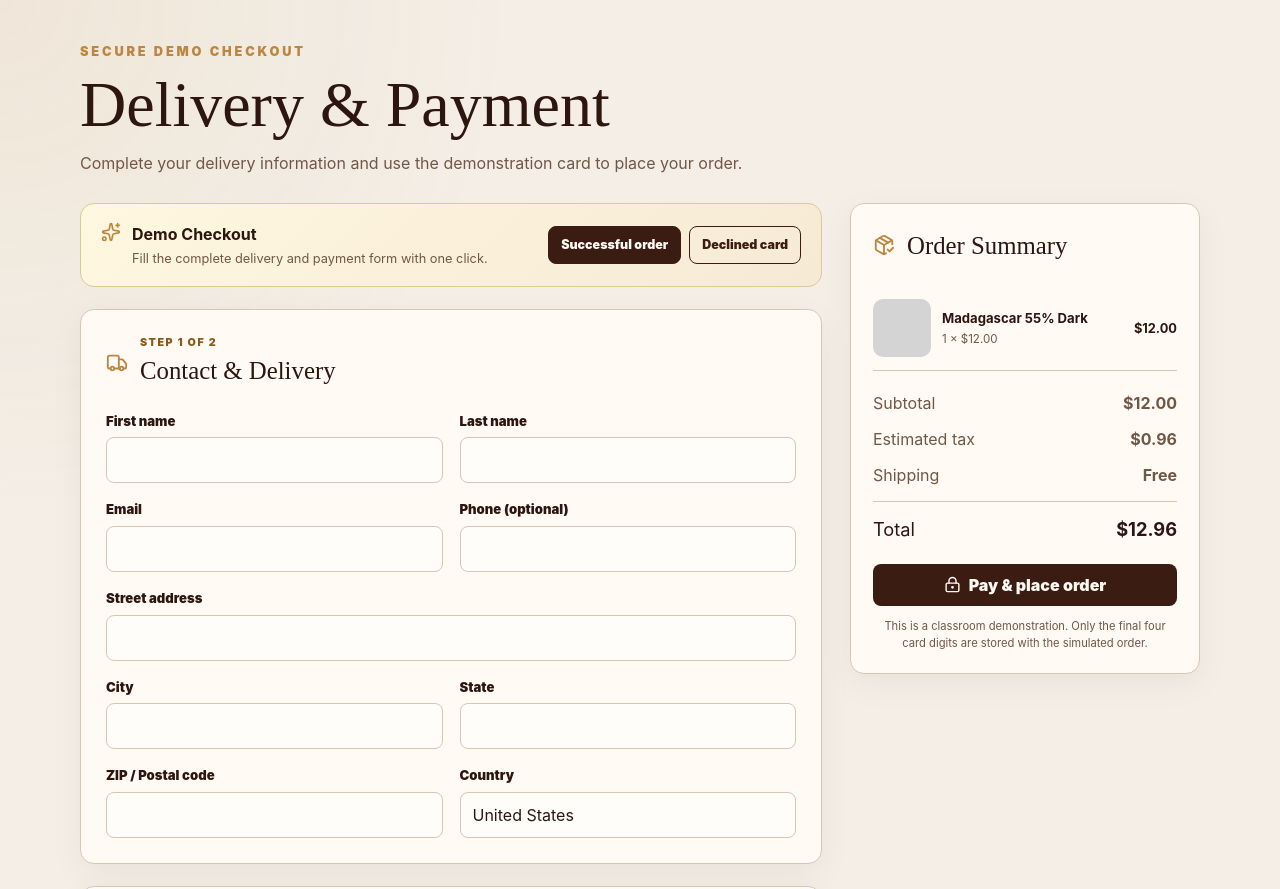
invalid checkout focuses first invalid field and does not clear cart
Click the button "Pay & place order".
click(1025, 585)  # box x1=873 y1=564 x2=1177 y2=606
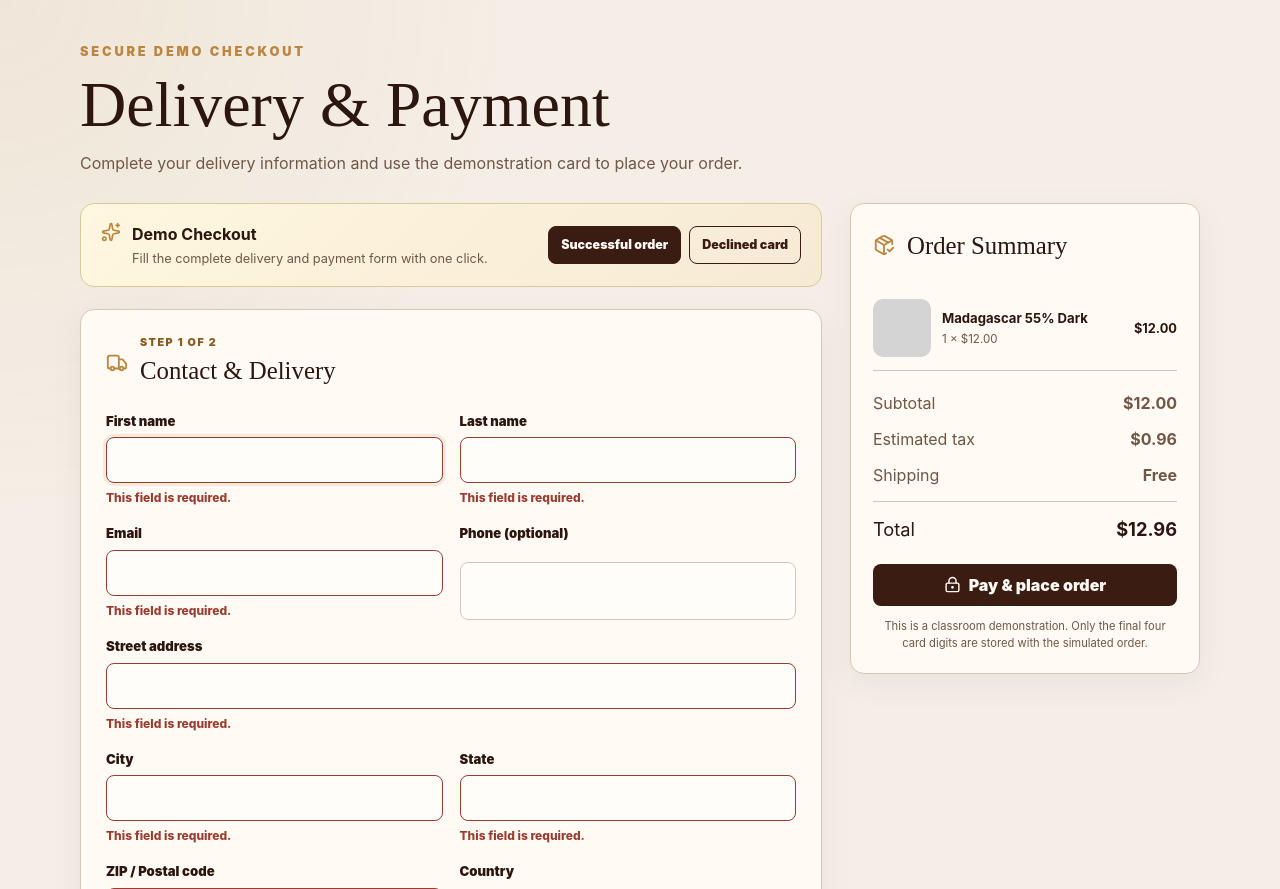
Expected: the field labelled "Email This field is required." is marked as invalid, x1=106 y1=550 x2=442 y2=596
